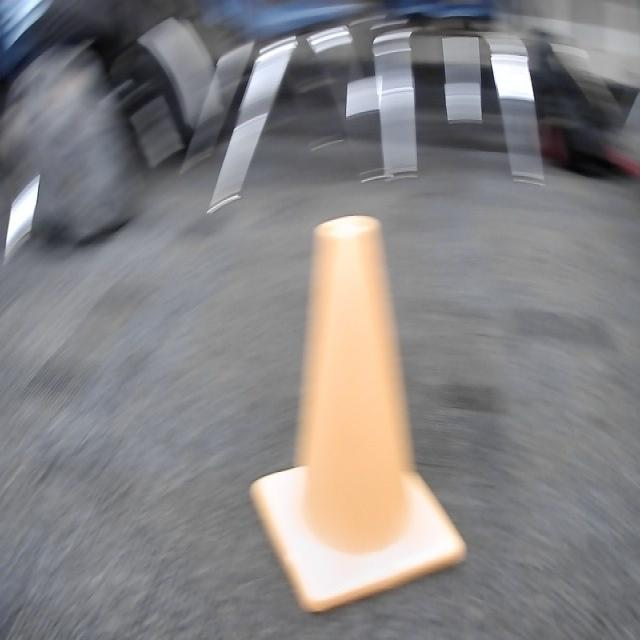cone: (250, 212, 468, 619)
